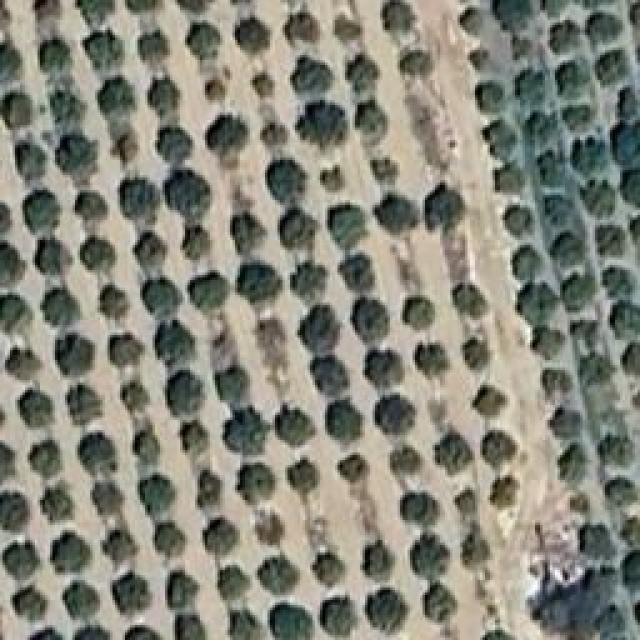Tree: (294, 98, 348, 145), (297, 303, 344, 352), (323, 200, 370, 247), (58, 134, 99, 186), (117, 182, 163, 228), (165, 173, 213, 217), (360, 345, 409, 388), (515, 283, 564, 326), (262, 158, 307, 202), (287, 260, 332, 304), (188, 270, 234, 313), (548, 228, 592, 272), (185, 20, 227, 66), (208, 115, 249, 162), (428, 180, 469, 227), (238, 263, 282, 306), (575, 518, 618, 562), (135, 273, 180, 315), (307, 360, 354, 400), (375, 393, 418, 436), (225, 410, 269, 452), (365, 585, 406, 630), (378, 190, 417, 237), (267, 602, 315, 640), (413, 535, 456, 577), (160, 568, 204, 609), (450, 280, 492, 322), (153, 323, 196, 364), (595, 428, 638, 469), (145, 72, 185, 116), (273, 400, 317, 440), (607, 294, 640, 347), (290, 53, 336, 91), (235, 463, 277, 504), (598, 258, 640, 299), (78, 433, 118, 476), (55, 333, 94, 377), (323, 595, 362, 639), (385, 443, 426, 484), (275, 208, 317, 248), (165, 370, 204, 413), (323, 398, 362, 441), (398, 490, 442, 528), (53, 533, 93, 574), (568, 135, 612, 172), (23, 190, 59, 235), (83, 30, 123, 70), (585, 10, 627, 48), (535, 148, 572, 191), (577, 178, 622, 213), (225, 215, 264, 255), (340, 250, 379, 290), (433, 433, 473, 472), (510, 65, 549, 105), (112, 573, 150, 614), (533, 363, 574, 401), (602, 120, 639, 162), (43, 288, 82, 327), (478, 430, 518, 468), (140, 475, 176, 517), (578, 353, 620, 389), (362, 154, 409, 186), (485, 118, 519, 162), (503, 208, 540, 248), (590, 45, 630, 82), (68, 385, 103, 427), (97, 78, 135, 116), (280, 10, 318, 48), (568, 318, 606, 356), (258, 558, 297, 595), (538, 188, 577, 225), (548, 13, 585, 52), (528, 328, 568, 364), (250, 510, 291, 545), (562, 270, 596, 312), (590, 222, 633, 255), (158, 128, 195, 166), (558, 93, 596, 130), (358, 540, 394, 579), (378, 0, 417, 36), (600, 473, 640, 508), (178, 223, 215, 260), (235, 15, 272, 52), (423, 588, 460, 625), (63, 582, 99, 620), (3, 543, 39, 581), (415, 338, 451, 376), (553, 448, 589, 486), (18, 390, 53, 429), (470, 385, 509, 420), (493, 163, 528, 202), (353, 298, 387, 338), (553, 58, 589, 95), (343, 55, 381, 90), (107, 125, 140, 165), (175, 415, 213, 449), (208, 515, 243, 551), (13, 585, 48, 621), (138, 30, 173, 66), (218, 565, 252, 602), (400, 293, 437, 327), (473, 78, 507, 115), (550, 408, 587, 442), (30, 440, 63, 478), (110, 332, 145, 367), (50, 90, 85, 125), (215, 365, 249, 401), (320, 163, 354, 199), (40, 485, 73, 522), (400, 50, 437, 83), (460, 535, 492, 573), (18, 142, 48, 182), (35, 240, 69, 275), (133, 232, 168, 266), (285, 458, 319, 493), (458, 335, 492, 370), (193, 468, 222, 509), (313, 550, 349, 583), (0, 92, 32, 129), (525, 108, 559, 142), (103, 530, 138, 563), (5, 348, 41, 380), (493, 0, 535, 27), (0, 242, 25, 287), (512, 248, 545, 282), (0, 492, 28, 532), (155, 523, 186, 559), (0, 295, 29, 333), (100, 285, 130, 321), (452, 2, 485, 34), (83, 237, 113, 272), (338, 453, 373, 483), (355, 100, 385, 135), (132, 428, 160, 465), (40, 40, 71, 73), (490, 477, 521, 510), (75, 194, 109, 224), (227, 607, 257, 640), (617, 163, 640, 206), (333, 7, 363, 39), (120, 380, 149, 412), (172, 610, 204, 639), (95, 483, 122, 516), (77, 0, 114, 24), (615, 85, 640, 120), (0, 42, 21, 82), (248, 68, 275, 98), (568, 490, 598, 516), (0, 440, 18, 483), (260, 123, 288, 150), (466, 43, 494, 68), (200, 78, 229, 100), (622, 513, 640, 548), (622, 548, 640, 583), (73, 625, 113, 640), (458, 488, 480, 515), (125, 0, 166, 14), (120, 625, 157, 640), (35, 0, 61, 19), (30, 625, 64, 639), (0, 203, 11, 235)
